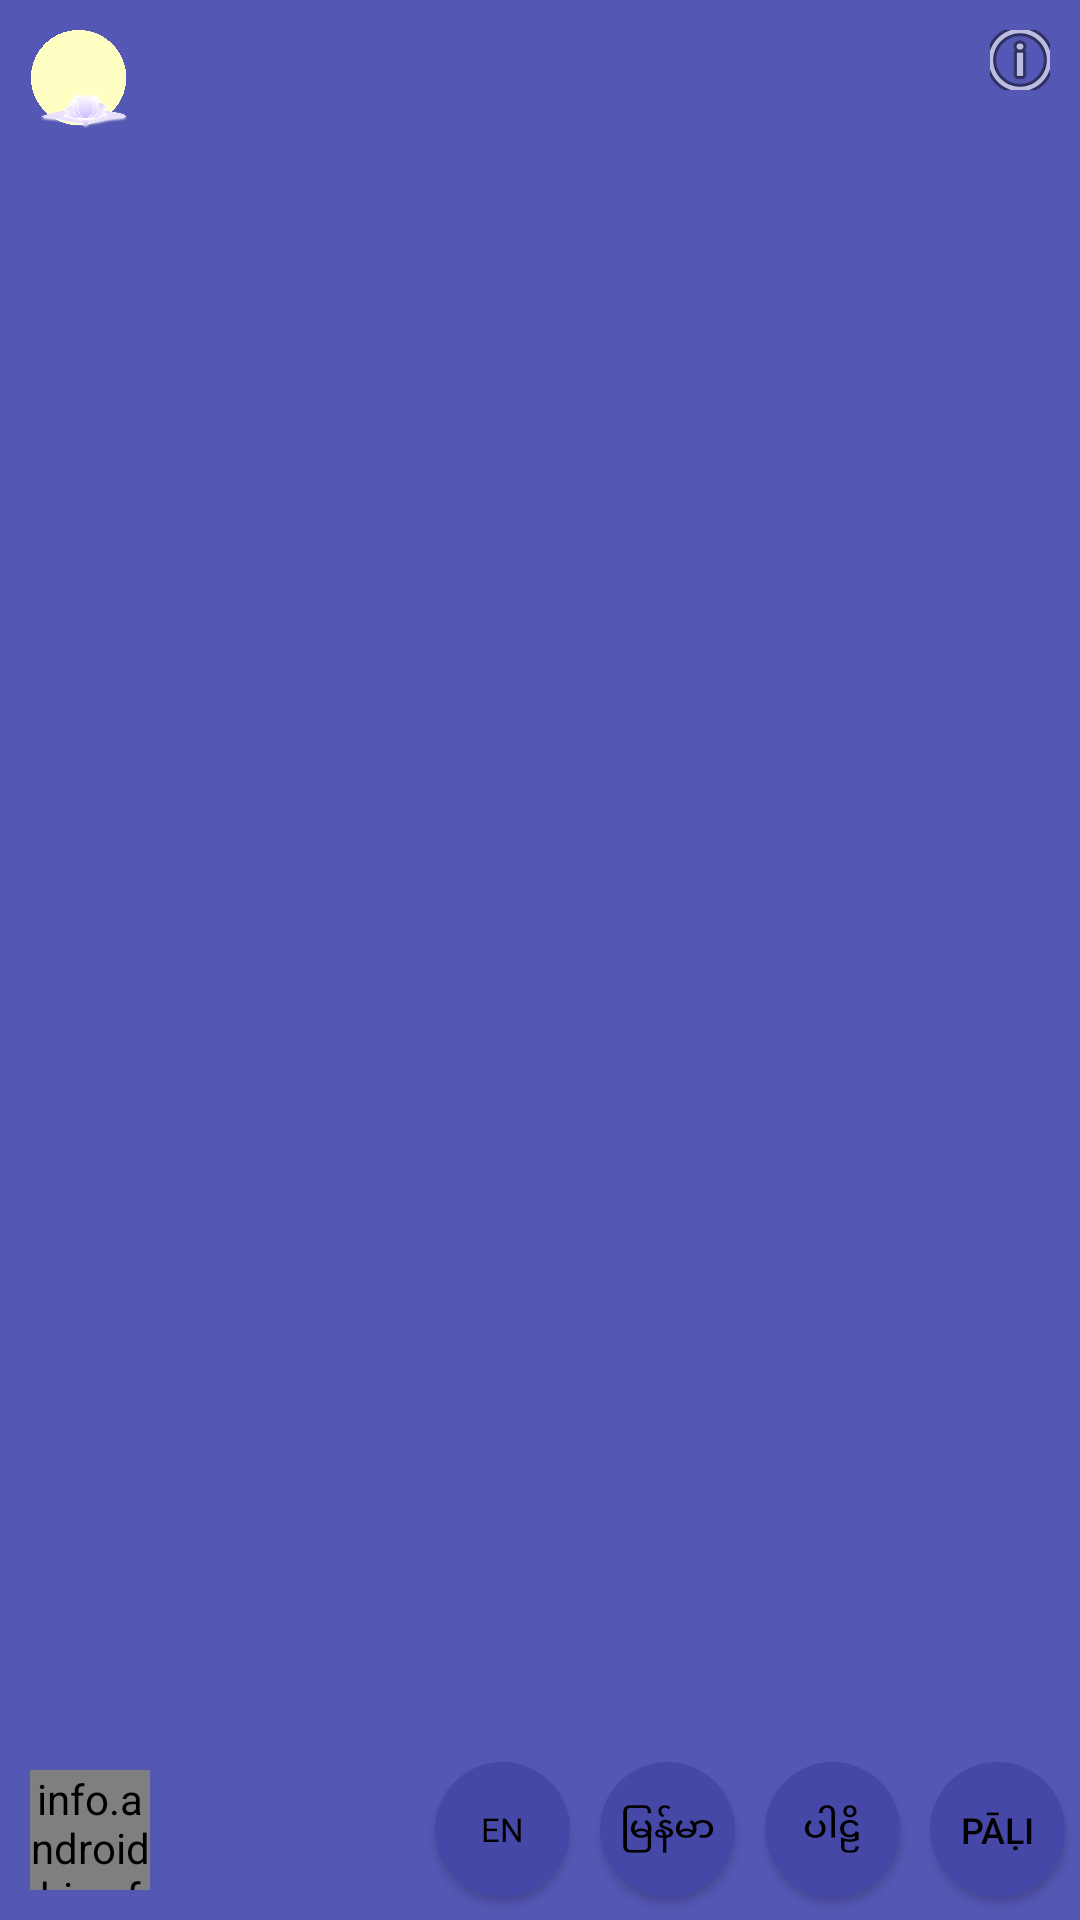

Where to tap for icons on this 1080px×1920px app screen, as (x=x, y=y):
info details: (x=1020, y=60)
